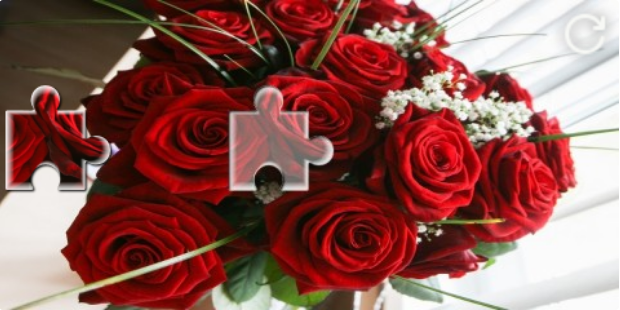target: (230, 86, 333, 191)
